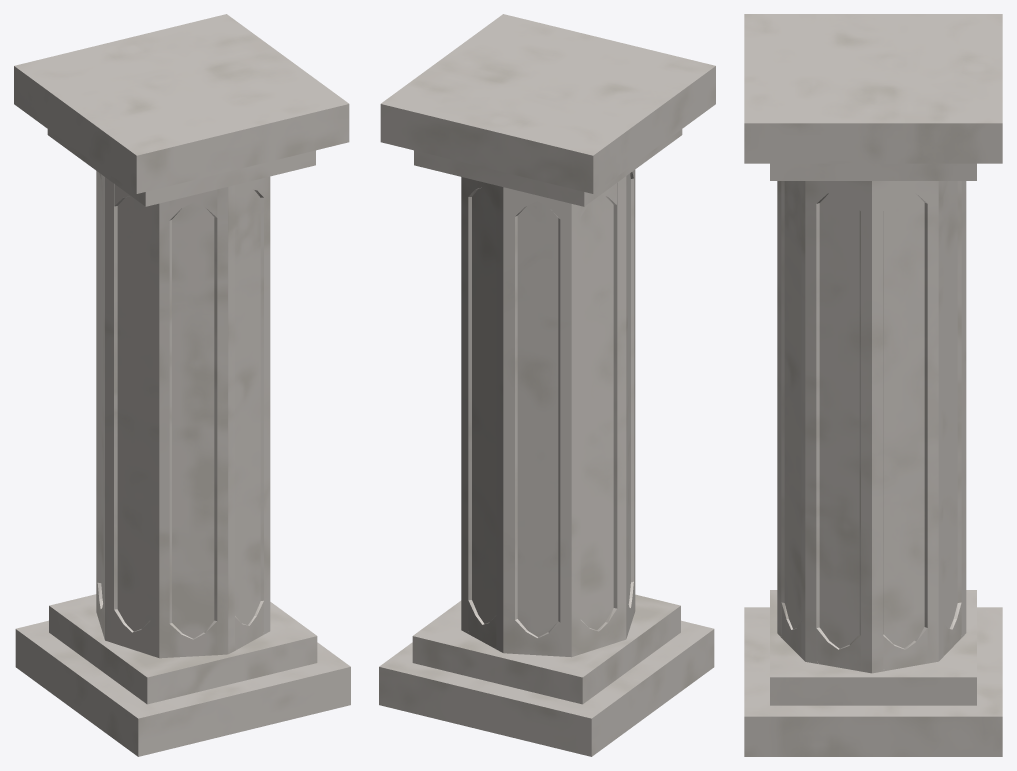
Rendered from column.fbx.
The picture shows the model from 3 angles, left to right: view 1: azimuth 30°, elevation 25°; view 2: azimuth 150°, elevation 25°; view 3: azimuth 270°, elevation 25°; orthographic projection. The views are drawn at different scales.
Visible parts, largest first — view 1: Column; view 2: Column; view 3: Column.
Boxes of the visible parts, box(x1,y1,x2,y2) form: Column: box(14, 14, 350, 756); Column: box(379, 14, 715, 756); Column: box(744, 14, 1002, 756).
Size of the model in its own units: 1979 by 5313 by 1966.
Materials: 1 (1 with a texture image).
